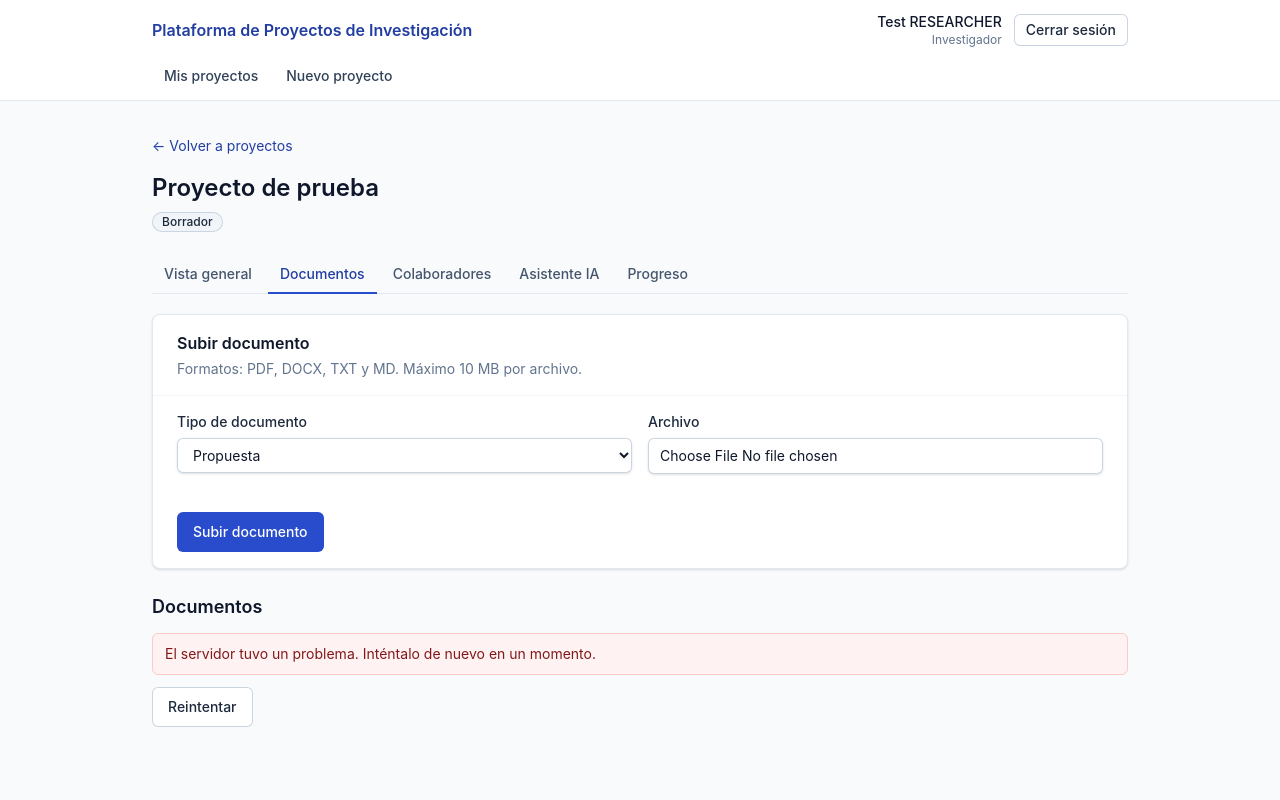
Test: Documents tab › shows an empty state, and a retryable error state
Expected: the message shows "El servidor tuvo un problema", x1=165 y1=645 x2=596 y2=662
Click the button "Reintentar". click: (202, 707)
box: x1=152 y1=687 x2=252 y2=727
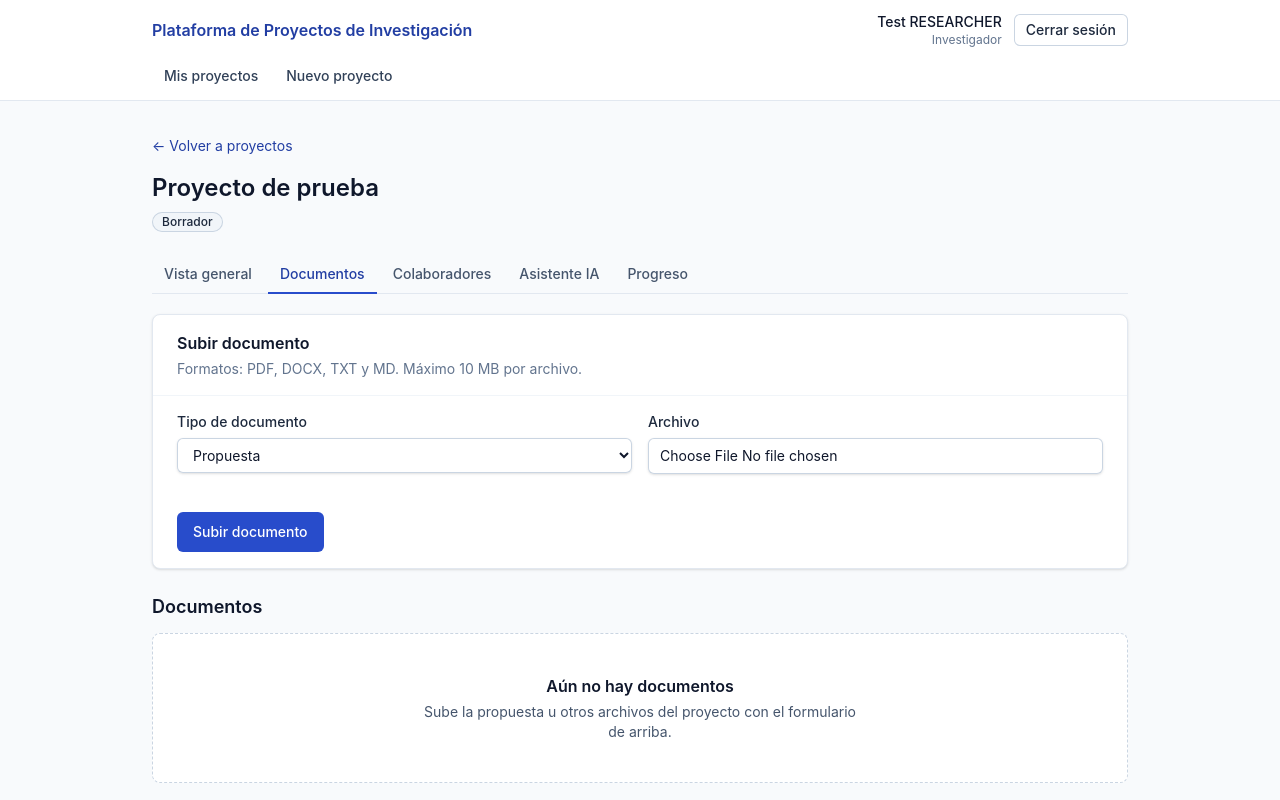
Expected: the text "Aún no hay documentos" is shown, x1=546 y1=676 x2=734 y2=696
